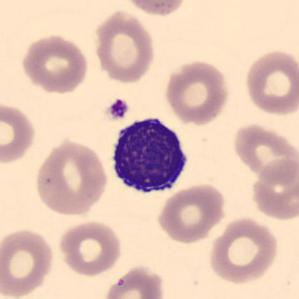Lymphocyte: (105, 111, 194, 200)
Platelets: (105, 97, 130, 122)
RBC: (32, 136, 110, 219), (207, 215, 281, 285), (92, 7, 157, 85), (162, 58, 232, 126), (155, 182, 228, 245), (19, 32, 91, 95), (0, 225, 56, 299), (56, 218, 124, 278), (231, 121, 297, 181), (243, 48, 298, 117), (248, 154, 299, 223), (0, 99, 38, 165), (102, 263, 167, 299), (118, 0, 190, 17)
